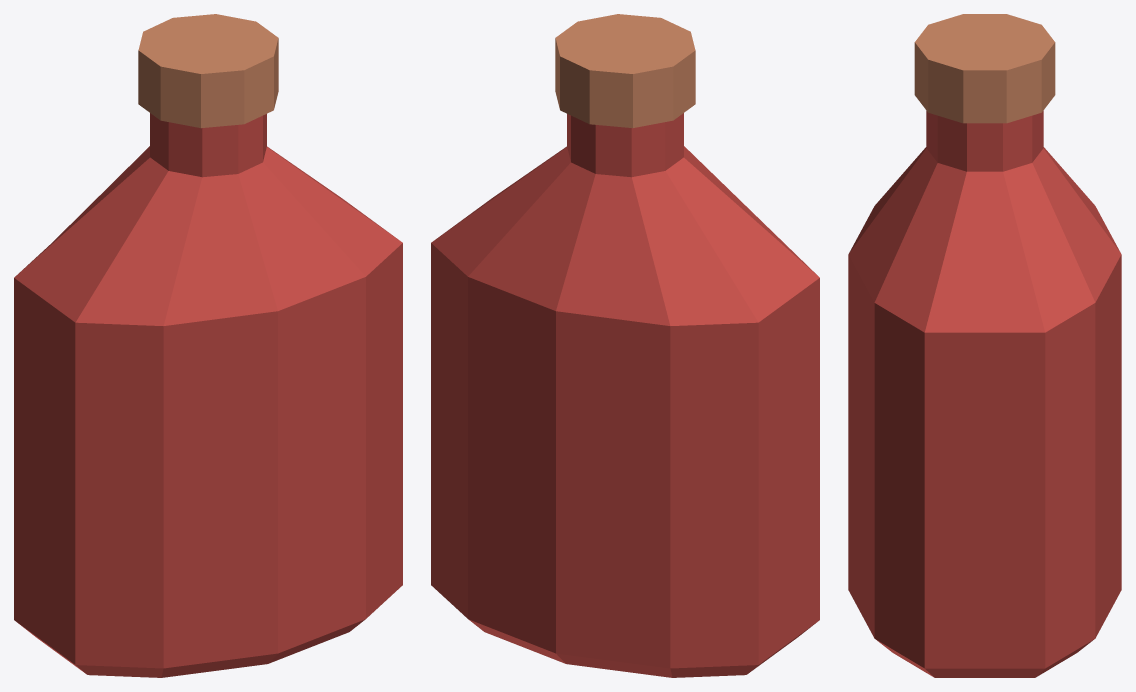
The model's file is Bottle_2.fbx.
3 views of the same model, side by side, from view 1: azimuth 30°, elevation 25°; view 2: azimuth 150°, elevation 25°; view 3: azimuth 270°, elevation 25° (orthographic).
Visible parts, largest first — view 1: Bottle_Wide; view 2: Bottle_Wide; view 3: Bottle_Wide.
Boxes of the visible parts, x1=… form: Bottle_Wide: x1=14, y1=14, x2=402, y2=677; Bottle_Wide: x1=431, y1=14, x2=819, y2=677; Bottle_Wide: x1=848, y1=14, x2=1121, y2=677.
Size of the model in its own units: 0.1902 by 0.14 by 0.32.
